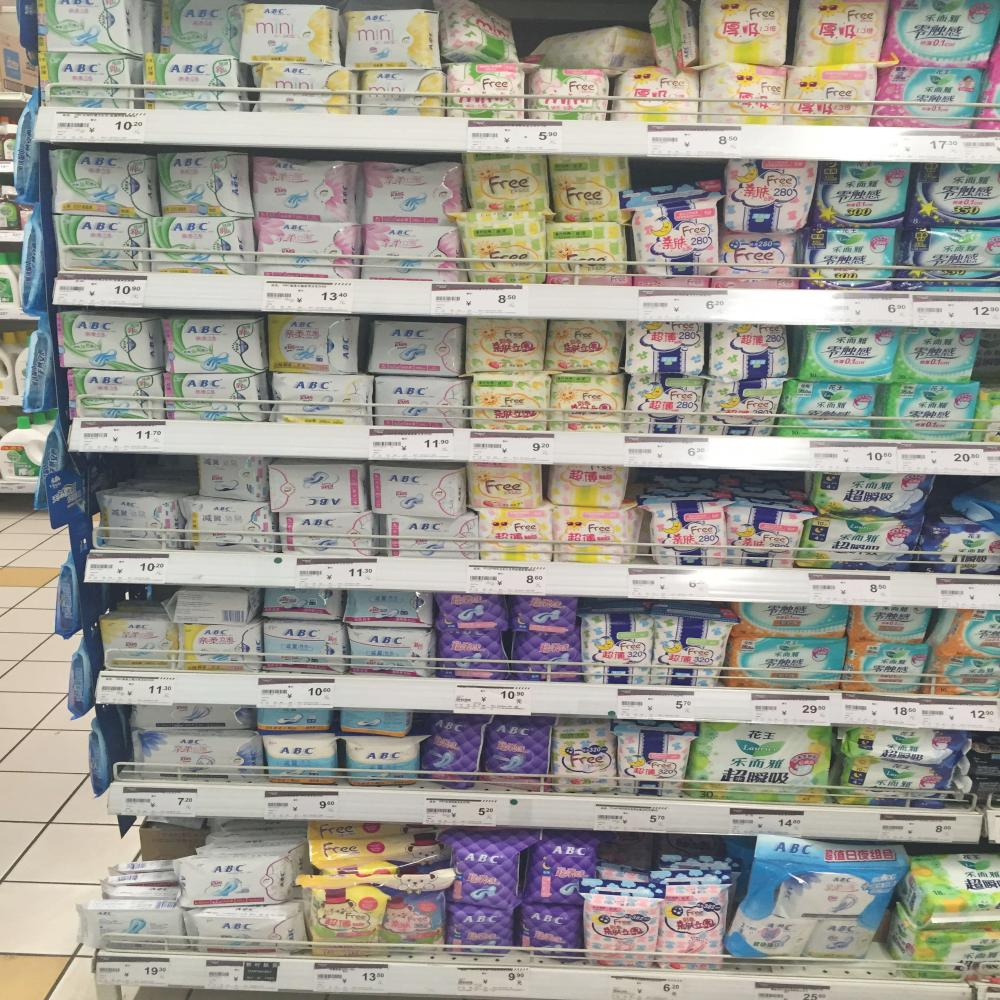shelf: (93, 668, 1000, 734), (26, 107, 1000, 168), (78, 550, 1000, 613), (104, 781, 1000, 845), (62, 417, 1000, 477), (46, 275, 1000, 329), (93, 951, 1000, 1000)
